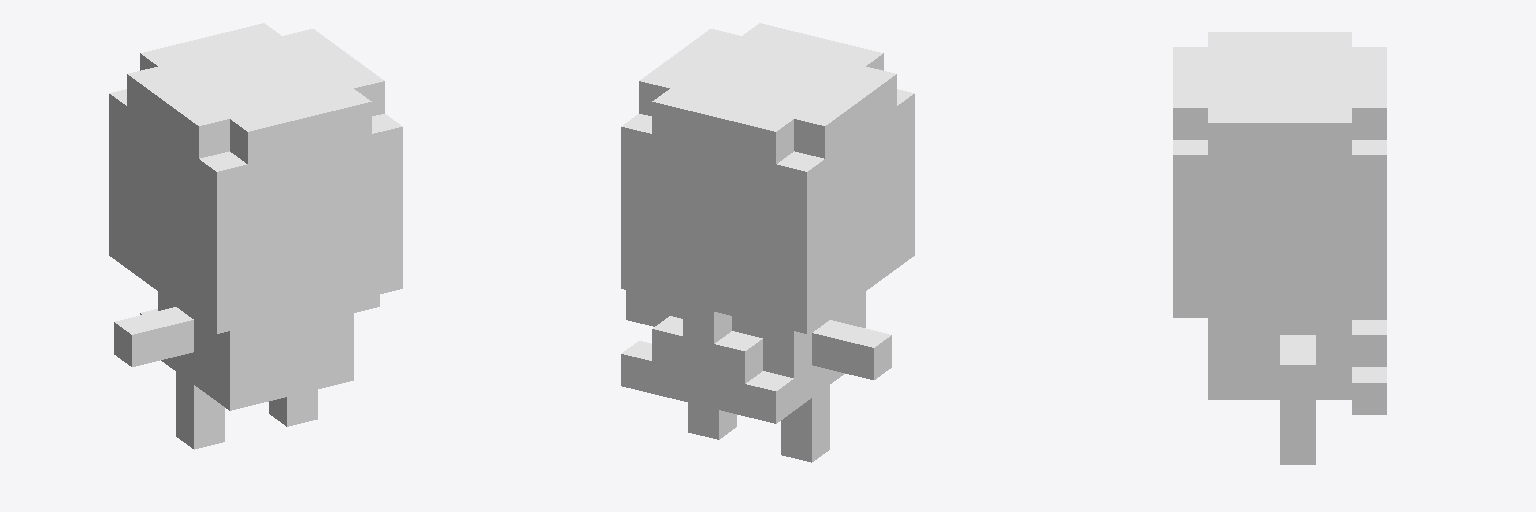
The model's file is Dash.obj.
3 renders of one model, left to right at view 1: azimuth 30°, elevation 25°; view 2: azimuth 150°, elevation 25°; view 3: azimuth 270°, elevation 25°, orthographic.
Parts seen in each view (by area): view 1: object 1; view 2: object 1; view 3: object 1.
Boxes of the visible parts, <box> form: object 1: <box>109,23,402,449</box>; object 1: <box>621,23,914,462</box>; object 1: <box>1173,32,1386,464</box>.
Size of the model in its own units: 0.8 by 1.1 by 0.6.